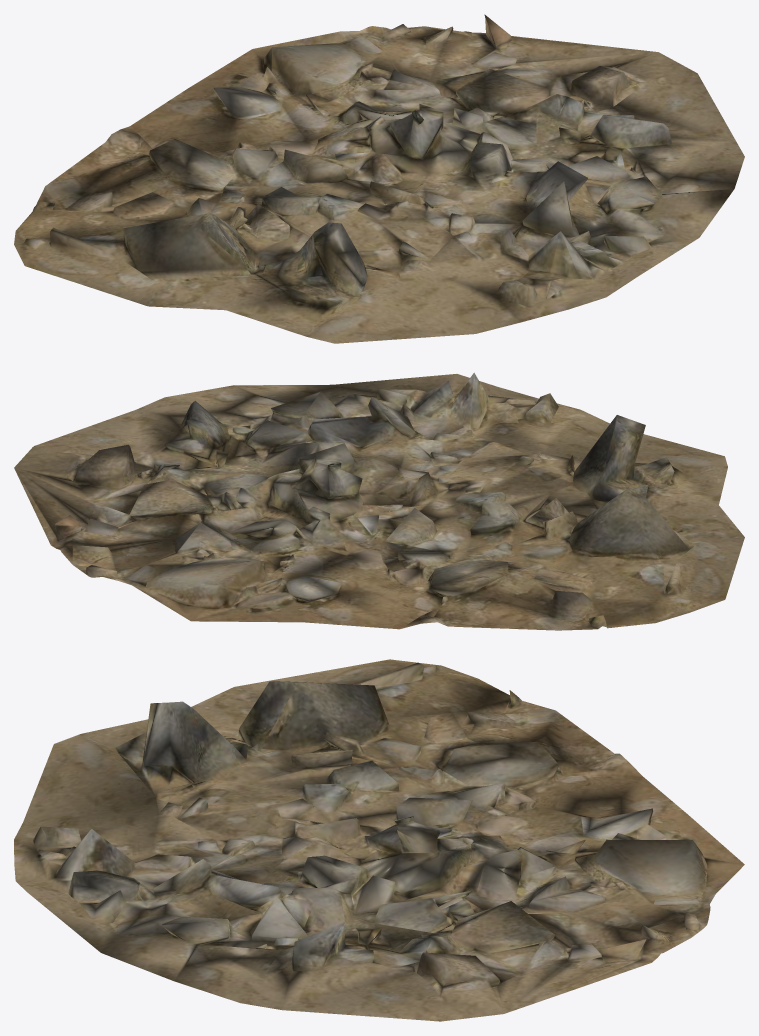
File: sand_rocks_small_01.lod.glb
3 renders of one model, top to bottom at view 1: azimuth 30°, elevation 25°; view 2: azimuth 150°, elevation 25°; view 3: azimuth 270°, elevation 25°, orthographic. The views are drawn at different scales.
Parts seen in each view (by area): view 1: sand_rocks_small_01_LOD0; view 2: sand_rocks_small_01_LOD0; view 3: sand_rocks_small_01_LOD0.
Boxes of the visible parts, x1=… form: sand_rocks_small_01_LOD0: x1=14, y1=14, x2=744, y2=343; sand_rocks_small_01_LOD0: x1=14, y1=372, x2=744, y2=630; sand_rocks_small_01_LOD0: x1=14, y1=659, x2=744, y2=1021.
Size of the model in its own units: 4.63 by 0.4947 by 3.88.
1 material, 1 textured.
